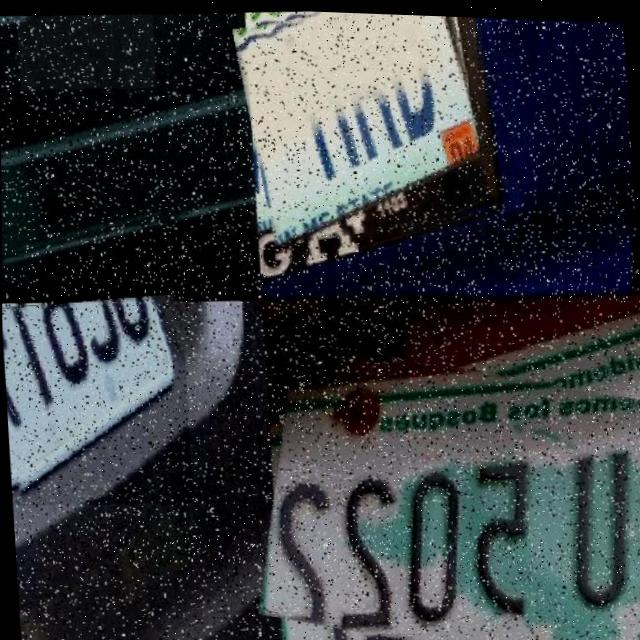LicensePlate: (252, 333, 640, 640), (238, 7, 487, 244), (2, 295, 186, 506), (17, 9, 157, 94)
